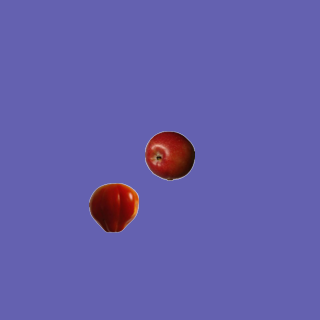Apple Braeburn: (144, 130, 194, 180)
Tomato 1: (88, 182, 138, 232)
